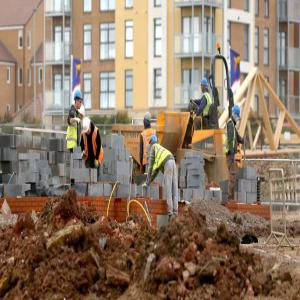blue: (75, 91, 83, 109), (233, 105, 241, 123), (201, 77, 209, 93), (150, 134, 158, 149)
white: (84, 117, 92, 135), (79, 104, 85, 119)
